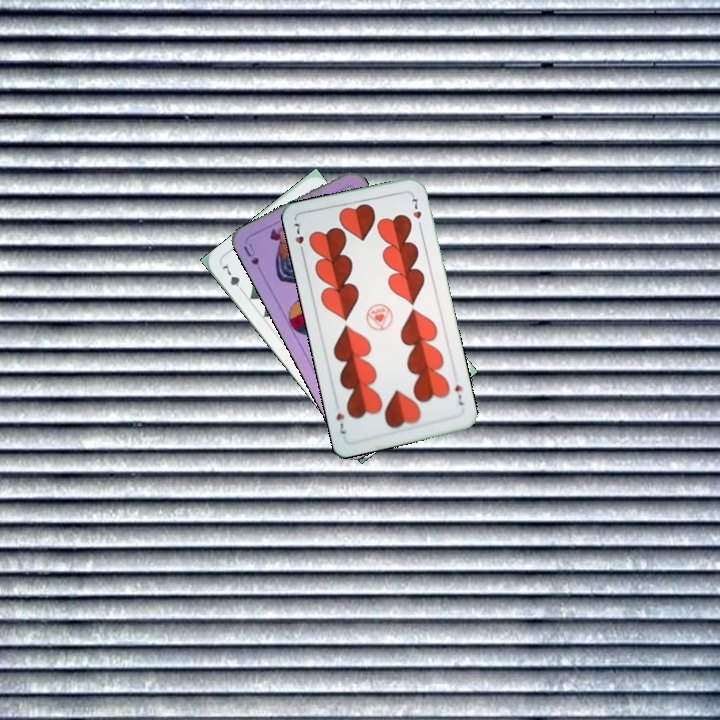G7: (218, 261, 247, 296)
H7: (290, 219, 307, 257), (450, 381, 466, 408)
SU: (239, 239, 266, 279)
